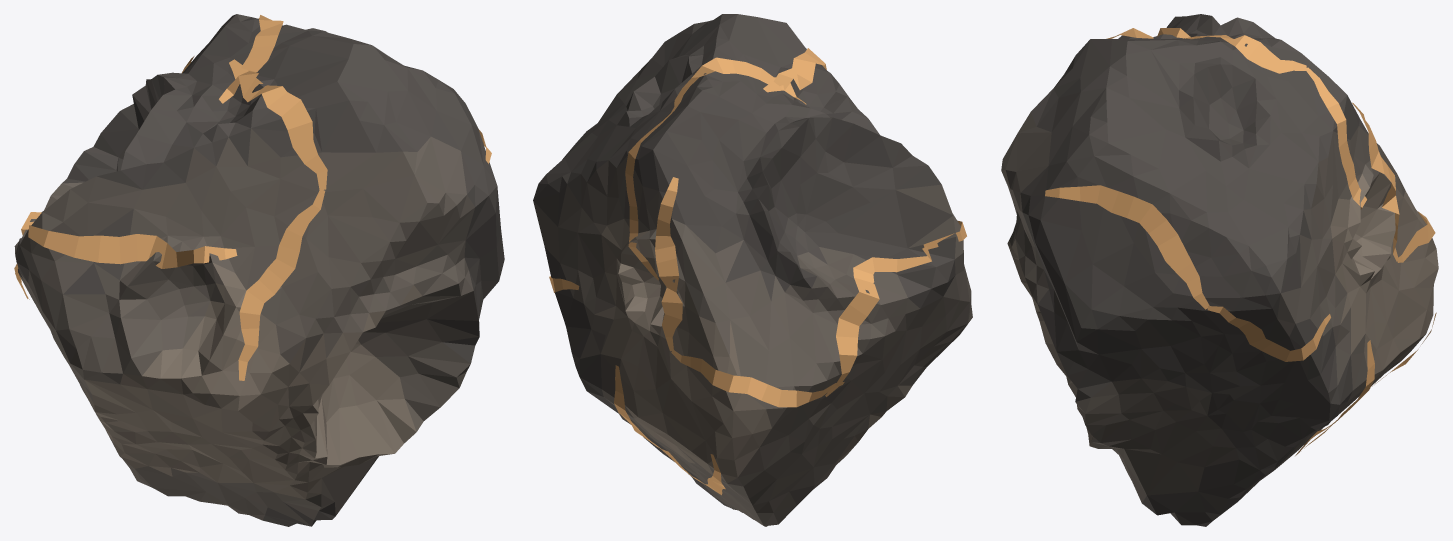
The model's file is asteroid_b.glb.
3 renders of one model, left to right at view 1: azimuth 30°, elevation 25°; view 2: azimuth 150°, elevation 25°; view 3: azimuth 270°, elevation 25°, orthographic. The views are drawn at different scales.
Visible parts, largest first — view 1: Asteroid; view 2: Asteroid; view 3: Asteroid.
Part boxes in pixels (x1=…): Asteroid: x1=14, y1=14, x2=504, y2=526; Asteroid: x1=533, y1=14, x2=972, y2=526; Asteroid: x1=1001, y1=14, x2=1438, y2=526.
Bounding box in the file's own units: 53.3 × 59.21 × 47.14.
